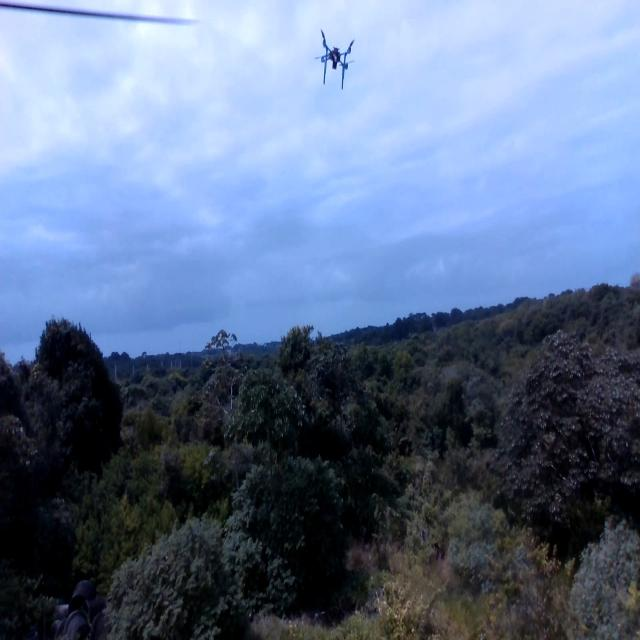-uav-: (306, 17, 366, 102)
